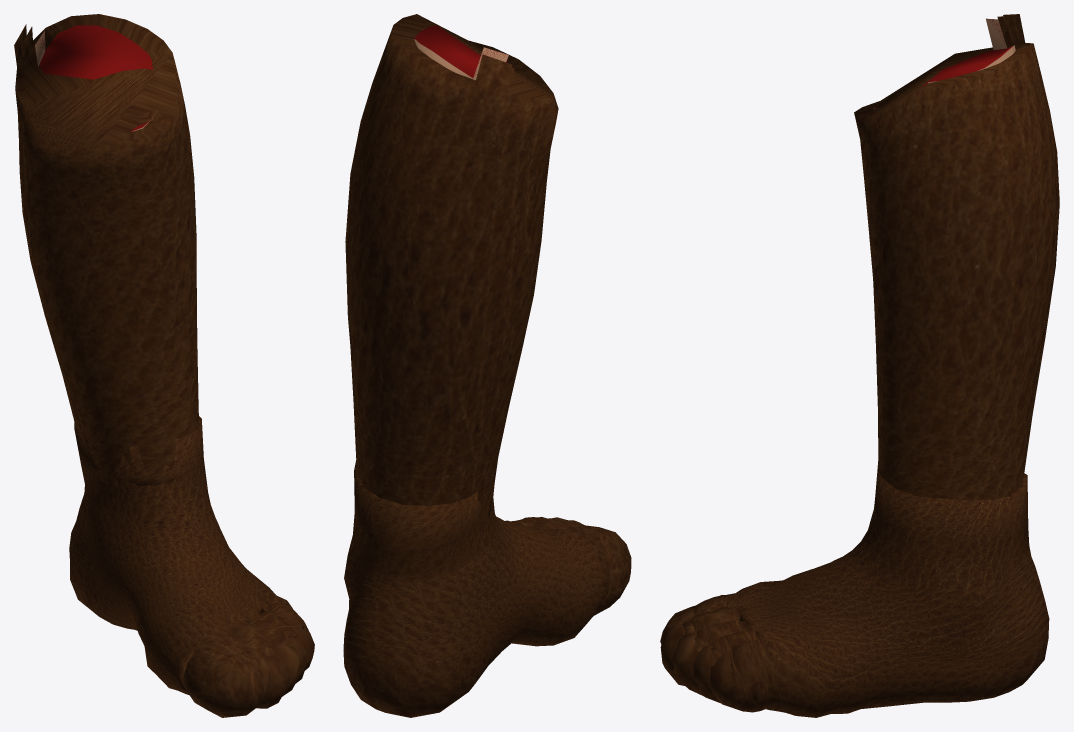
The model's file is SM_Part_M1_leg_l.gltf.
The picture shows the model from 3 angles, left to right: view 1: azimuth 30°, elevation 25°; view 2: azimuth 150°, elevation 25°; view 3: azimuth 270°, elevation 25°; orthographic projection. The views are drawn at different scales.
Parts seen in each view (by area): view 1: SM_Part_M1_leg_l; view 2: SM_Part_M1_leg_l; view 3: SM_Part_M1_leg_l.
Boxes of the visible parts, bbox=[...] form: SM_Part_M1_leg_l: bbox=[14, 14, 314, 717]; SM_Part_M1_leg_l: bbox=[343, 14, 631, 717]; SM_Part_M1_leg_l: bbox=[660, 14, 1059, 717].
Bounding box in the file's own units: 0.1859 × 0.5522 × 0.314.
Materials: 4 (2 with a texture image).
